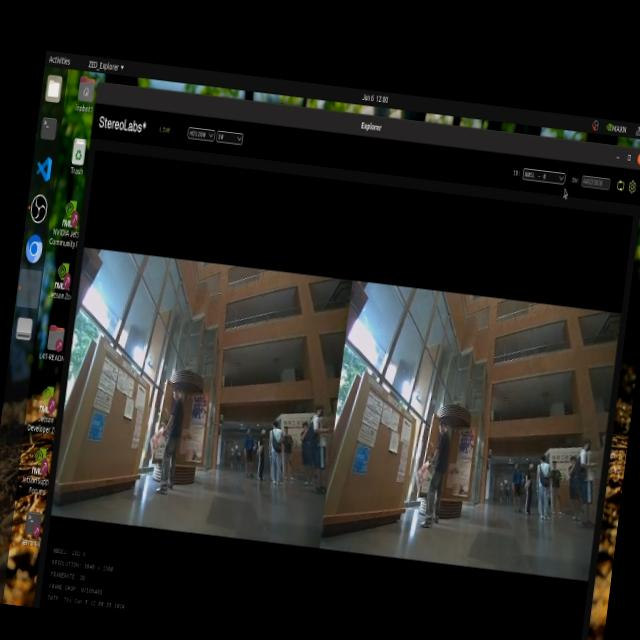red: (150, 426, 163, 450), (412, 468, 426, 488)
